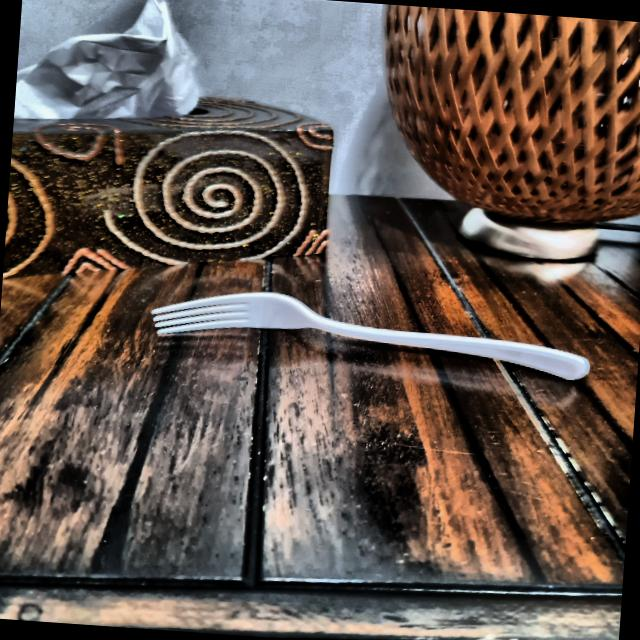plastic utensil: (141, 285, 594, 386)
